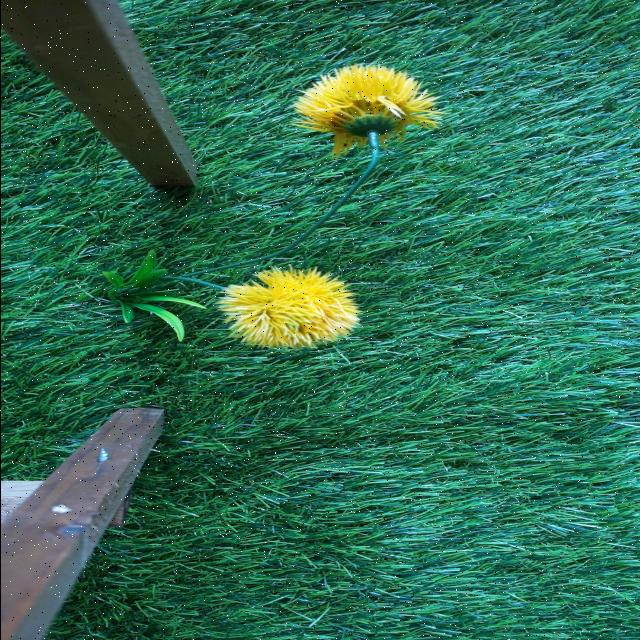base: (96, 248, 198, 338)
flower: (298, 62, 448, 153), (223, 270, 359, 346)
